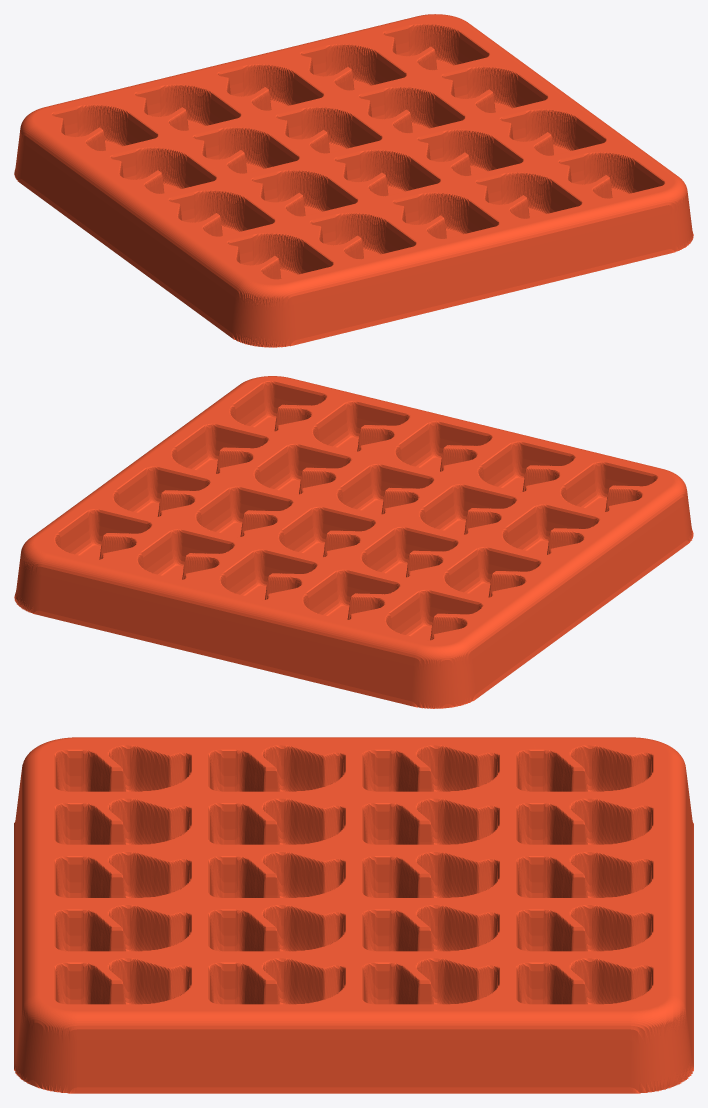
File: mold.glb
3 views of the same model, one above another, from view 1: azimuth 30°, elevation 25°; view 2: azimuth 150°, elevation 25°; view 3: azimuth 270°, elevation 25° (orthographic). The views are drawn at different scales.
Parts seen in each view (by area): view 1: geometry_0; view 2: geometry_0; view 3: geometry_0.
Part boxes in pixels (x1=…): geometry_0: x1=14, y1=14, x2=693, y2=347; geometry_0: x1=14, y1=376, x2=693, y2=708; geometry_0: x1=14, y1=737, x2=693, y2=1093.
Size of the model in its own units: 0.0992 by 0.0114 by 0.0972.
